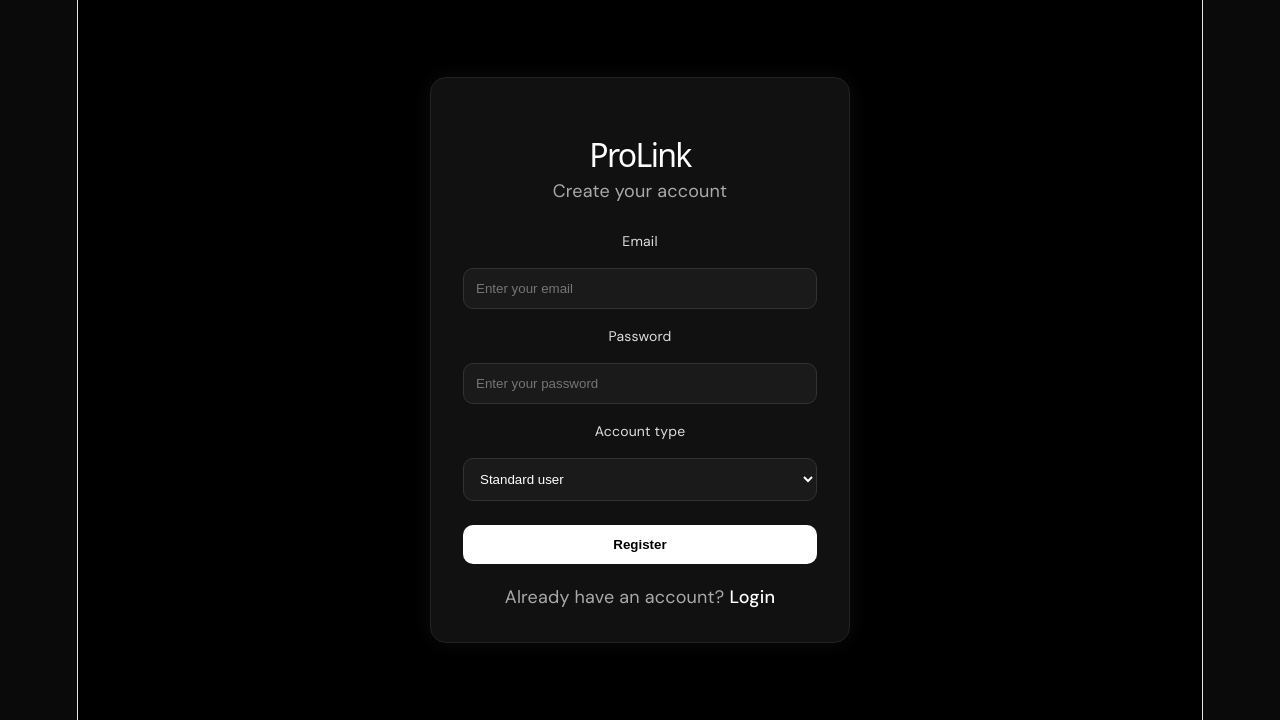
it: Authentication › shows an error when registration fails
The width and height of the screenshot is (1280, 720).
Type "existing@prolink.test" into the field with placeholder "Enter your email" at (640, 289), box [463,268,817,309]
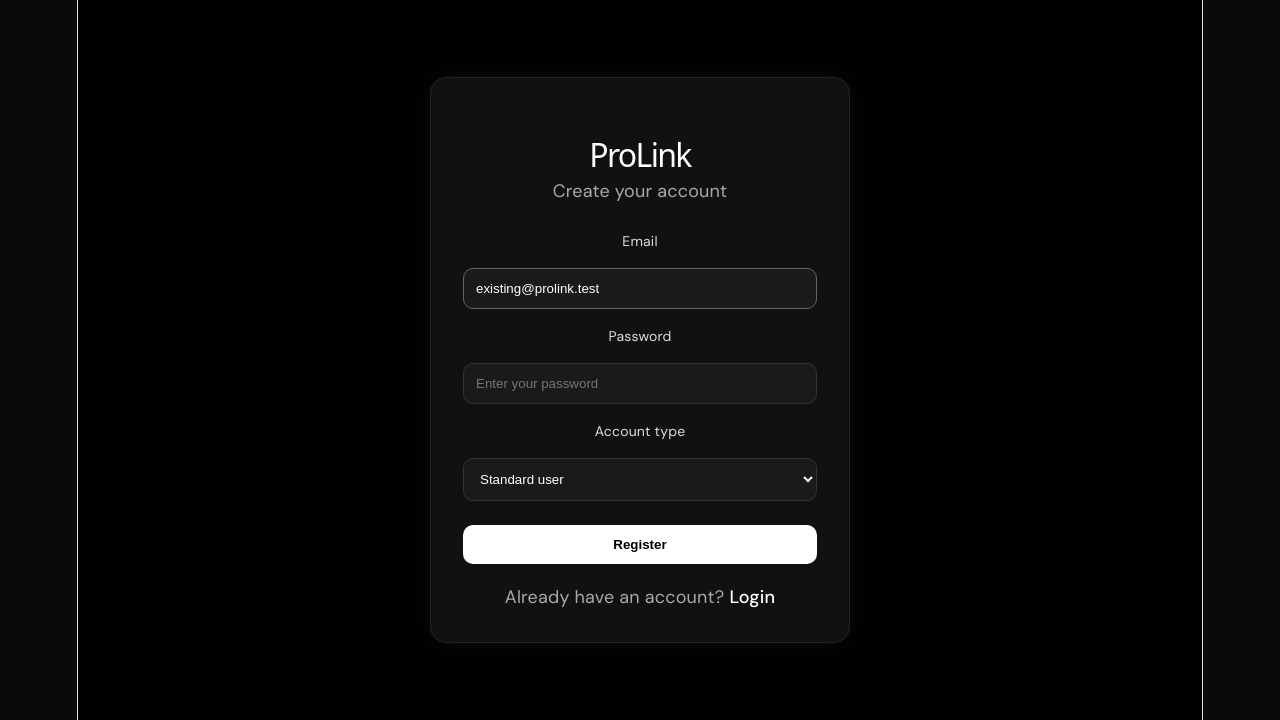
Type "Password123" into the password field with placeholder "Enter your password" at (640, 384), box [463,363,817,404]
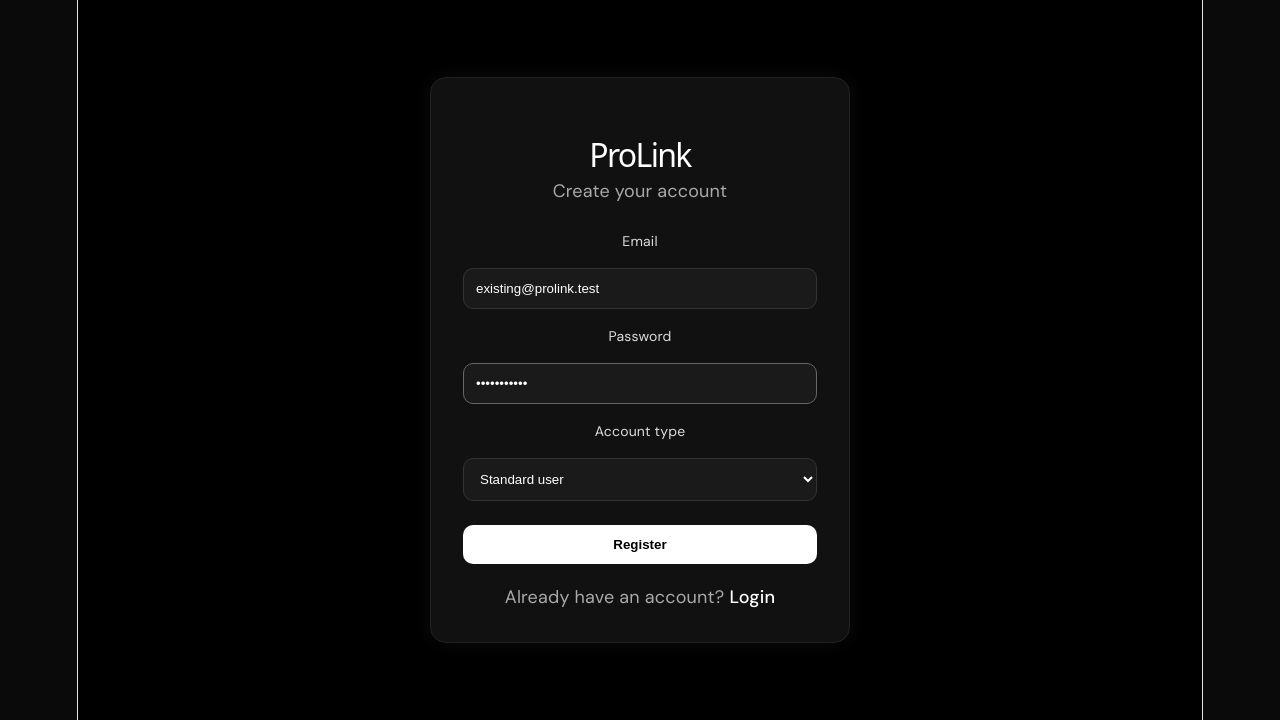
Click the button "Register" at (640, 545), box [463,525,817,564]
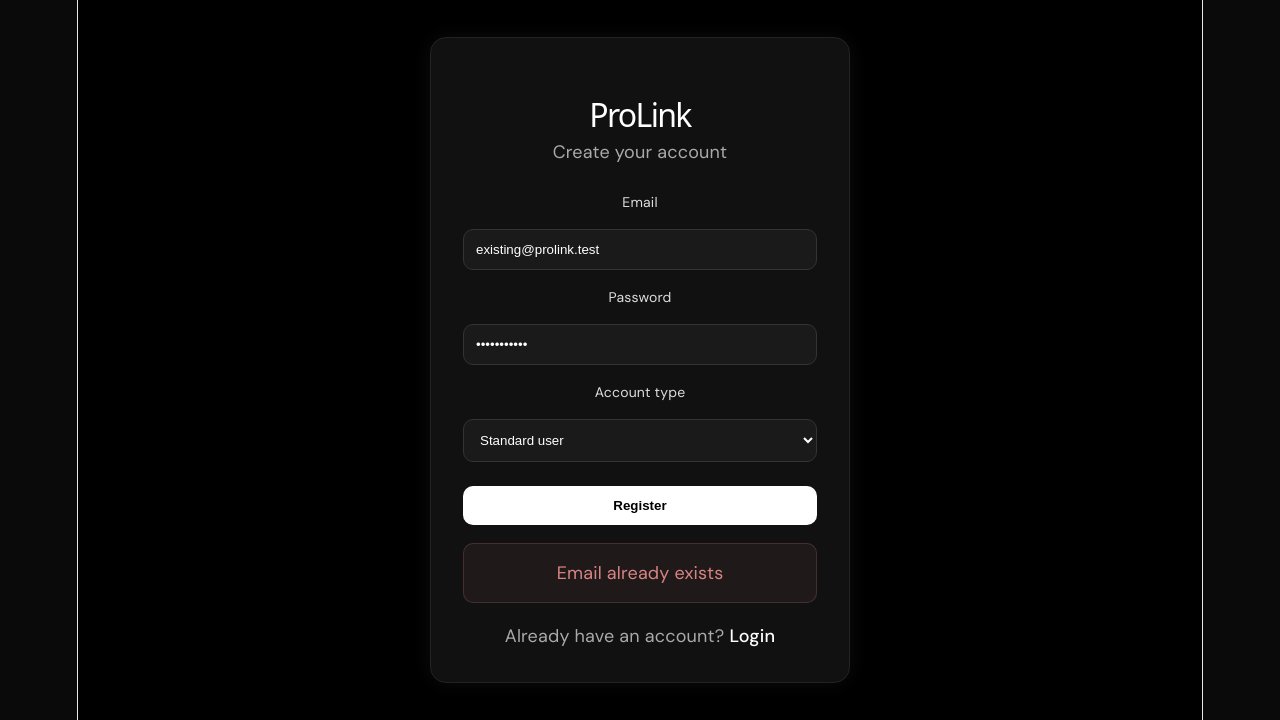
Check: the text "Email already exists" is shown, box [463,543,817,604]
